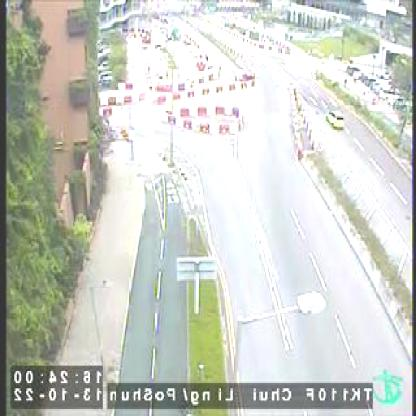Car: (325, 105, 344, 129)
